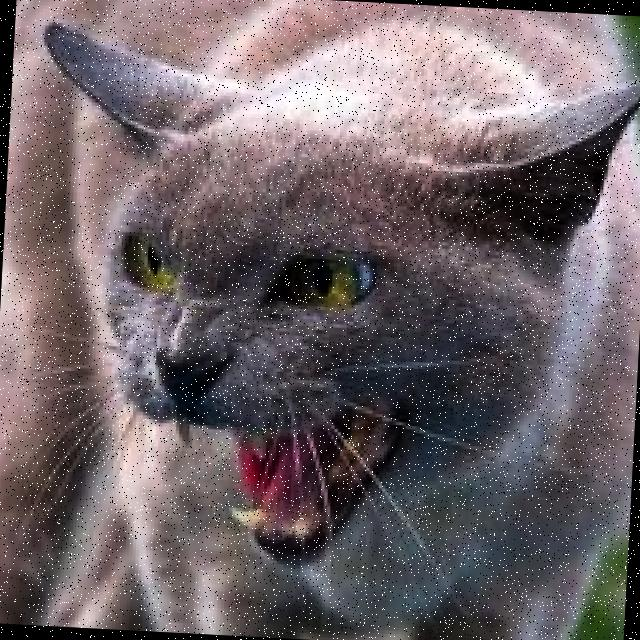Angry: (62, 188, 448, 586)
